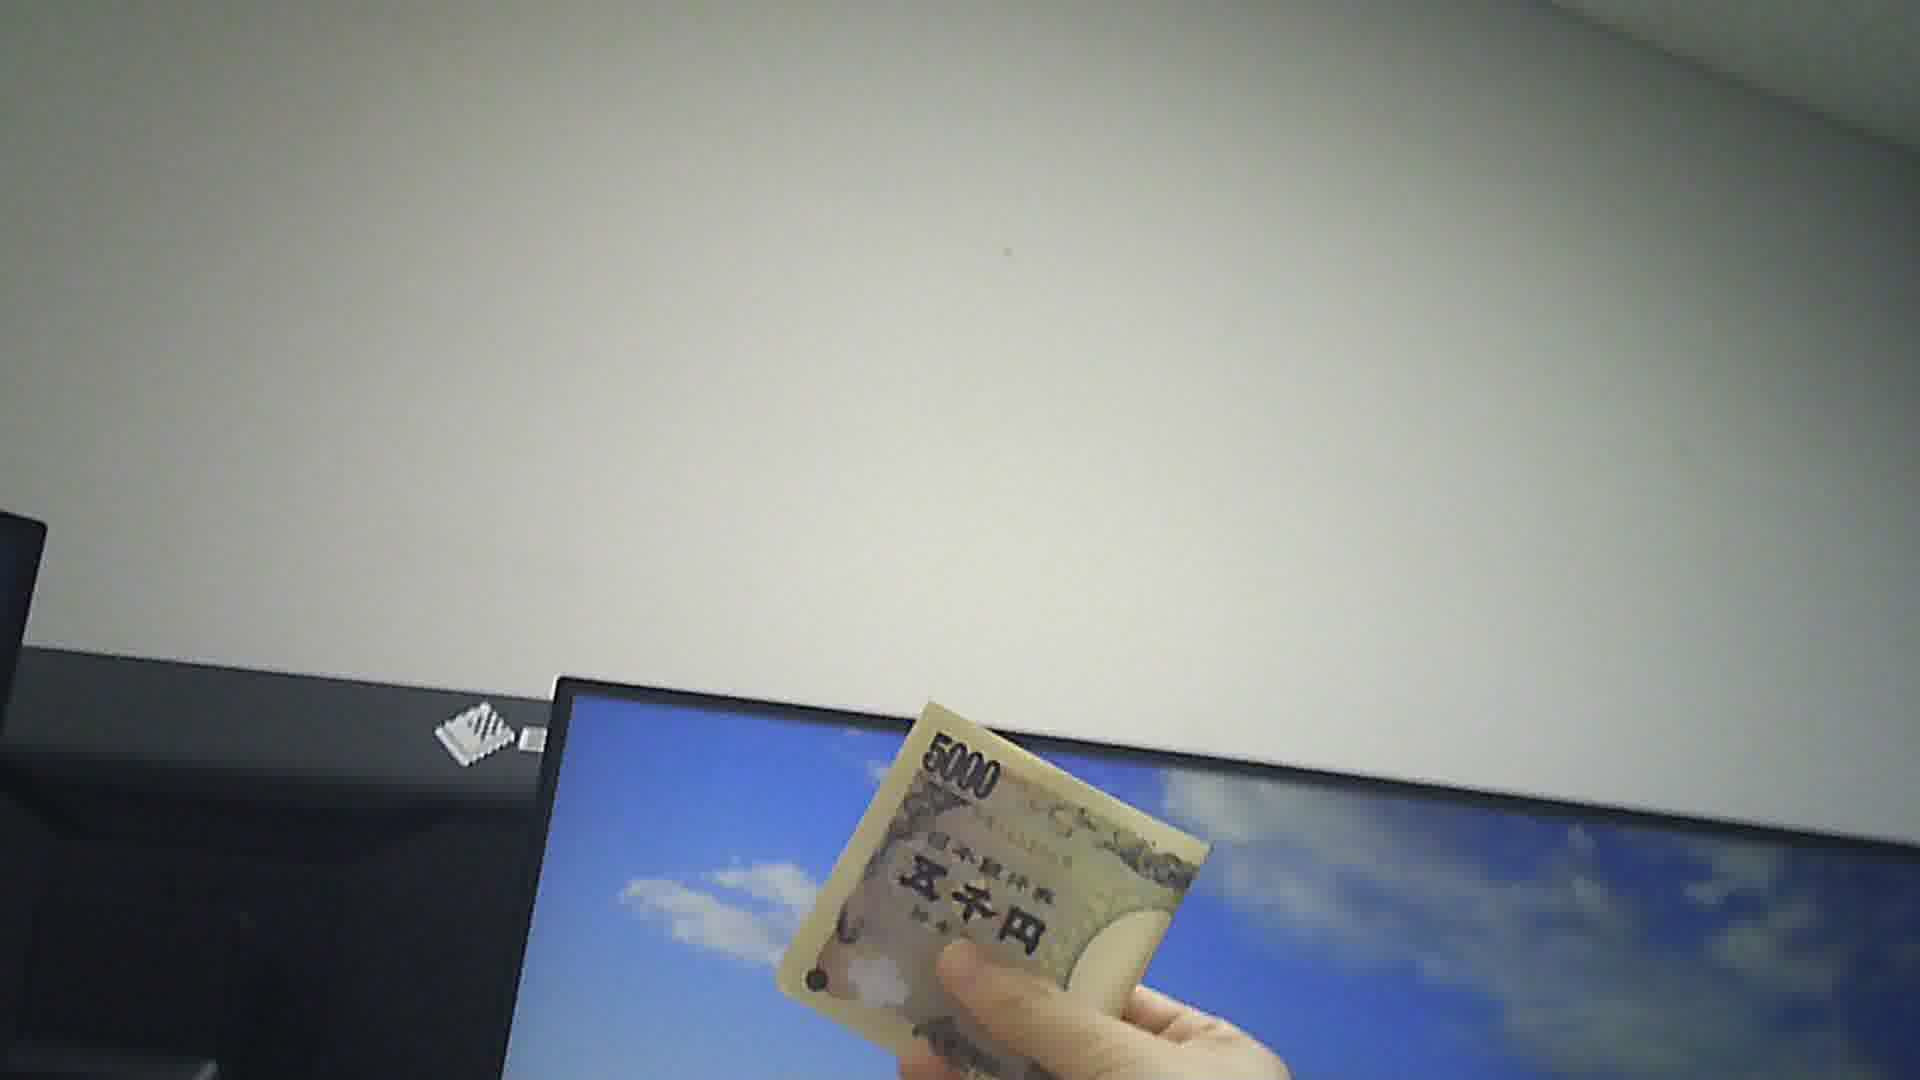5,000 Yen: (771, 700, 1182, 1062)
